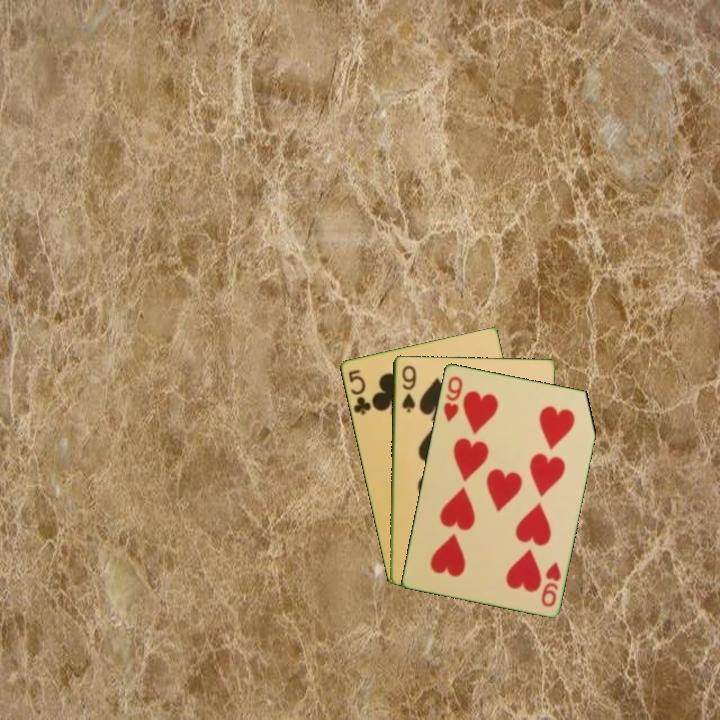5c: (344, 366, 373, 418)
9h: (537, 558, 564, 610), (439, 372, 465, 425)
9s: (398, 361, 419, 415)
